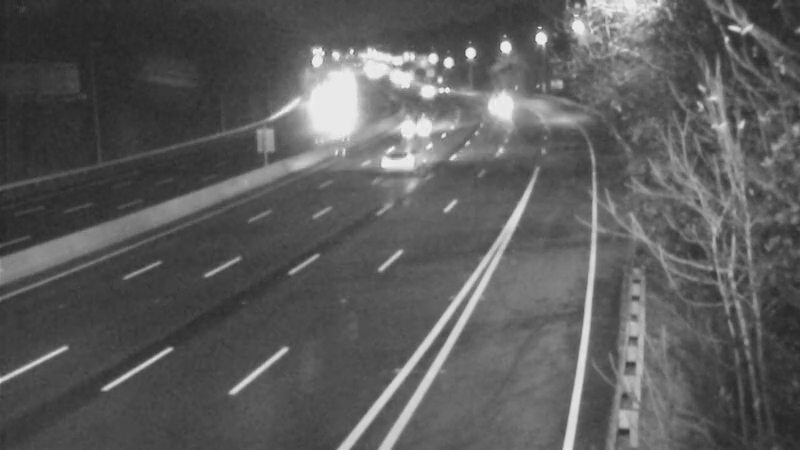vehicle: (358, 114, 438, 194), (406, 66, 456, 116), (473, 82, 523, 132), (390, 95, 440, 145), (294, 94, 344, 144)
